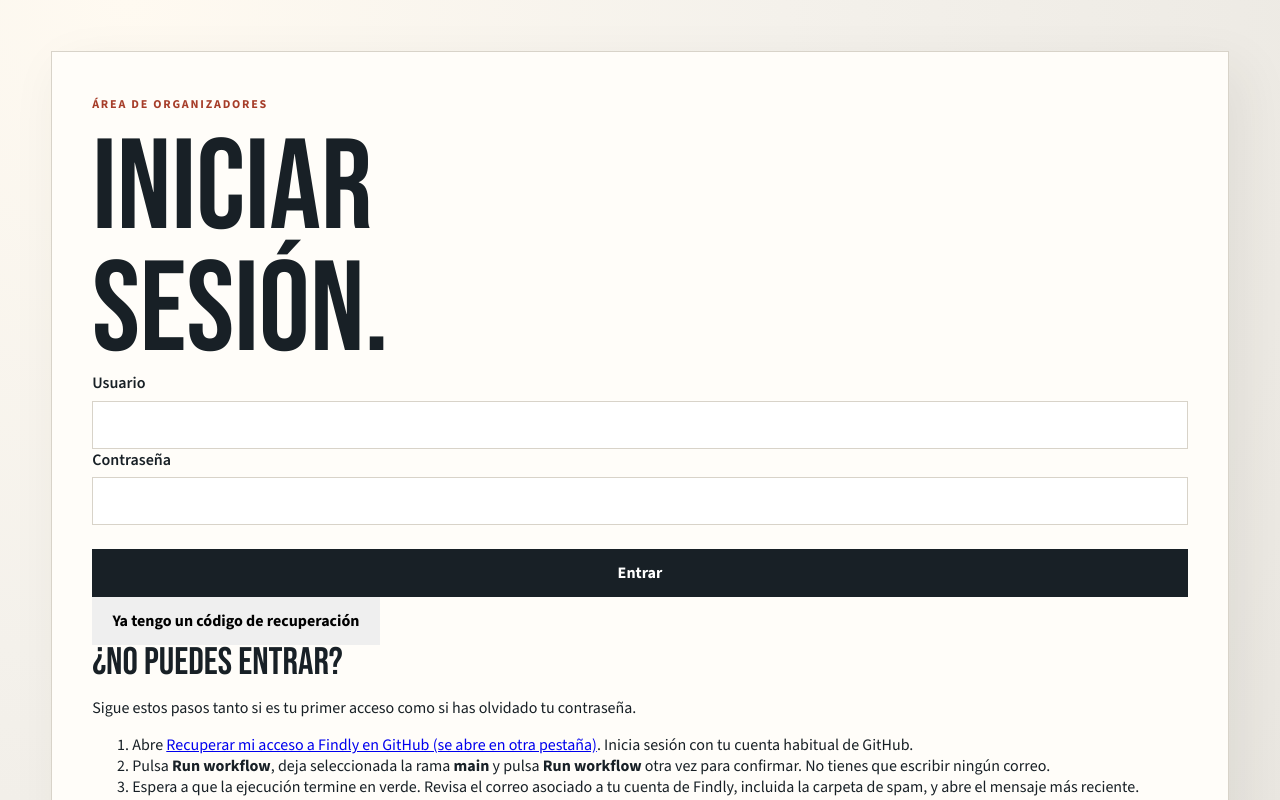
Test: frontend authentication › lets an invited organizer choose a permanent password before accessing events
In the field labelled "Usuario": (640, 425) [92, 401, 1188, 449], type "invited"
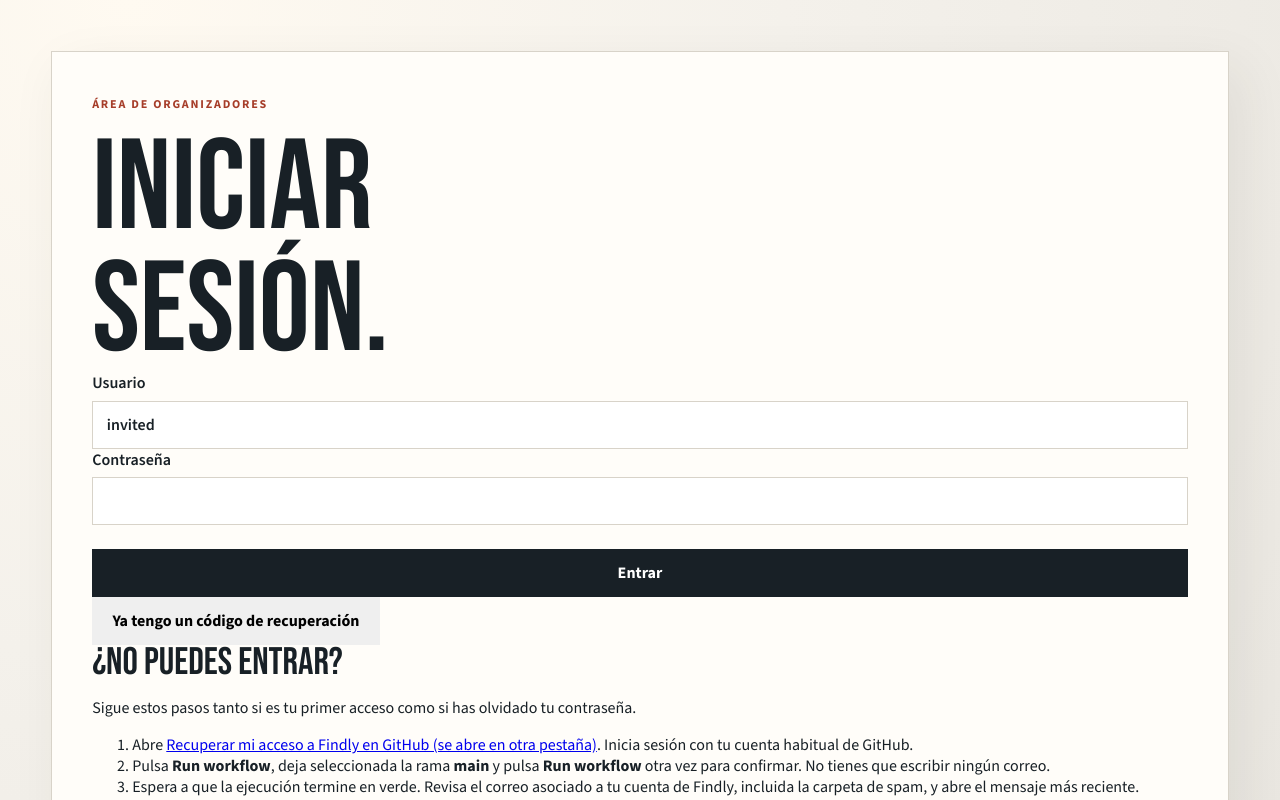
In the password field labelled "Contraseña": (640, 501) [92, 477, 1188, 525], type "temporary"
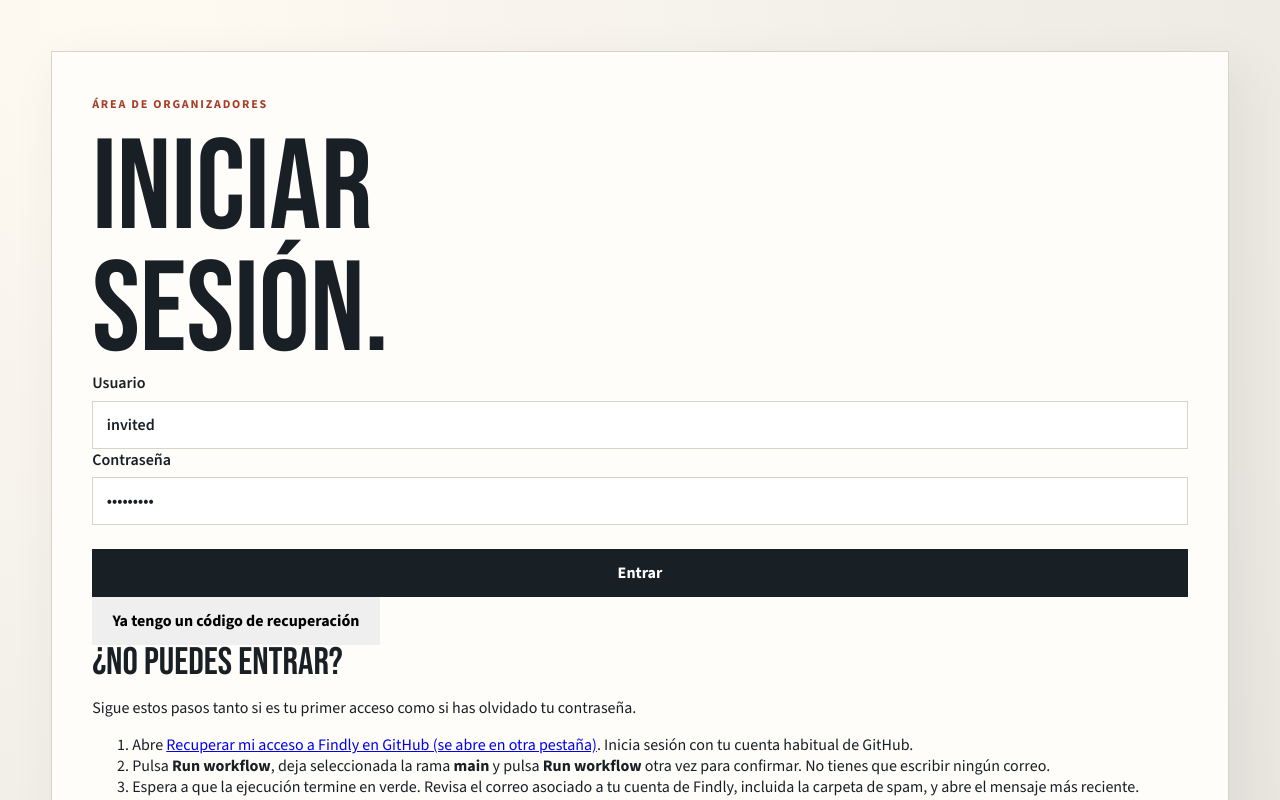
Click the button "Entrar": (640, 573) [92, 549, 1188, 597]
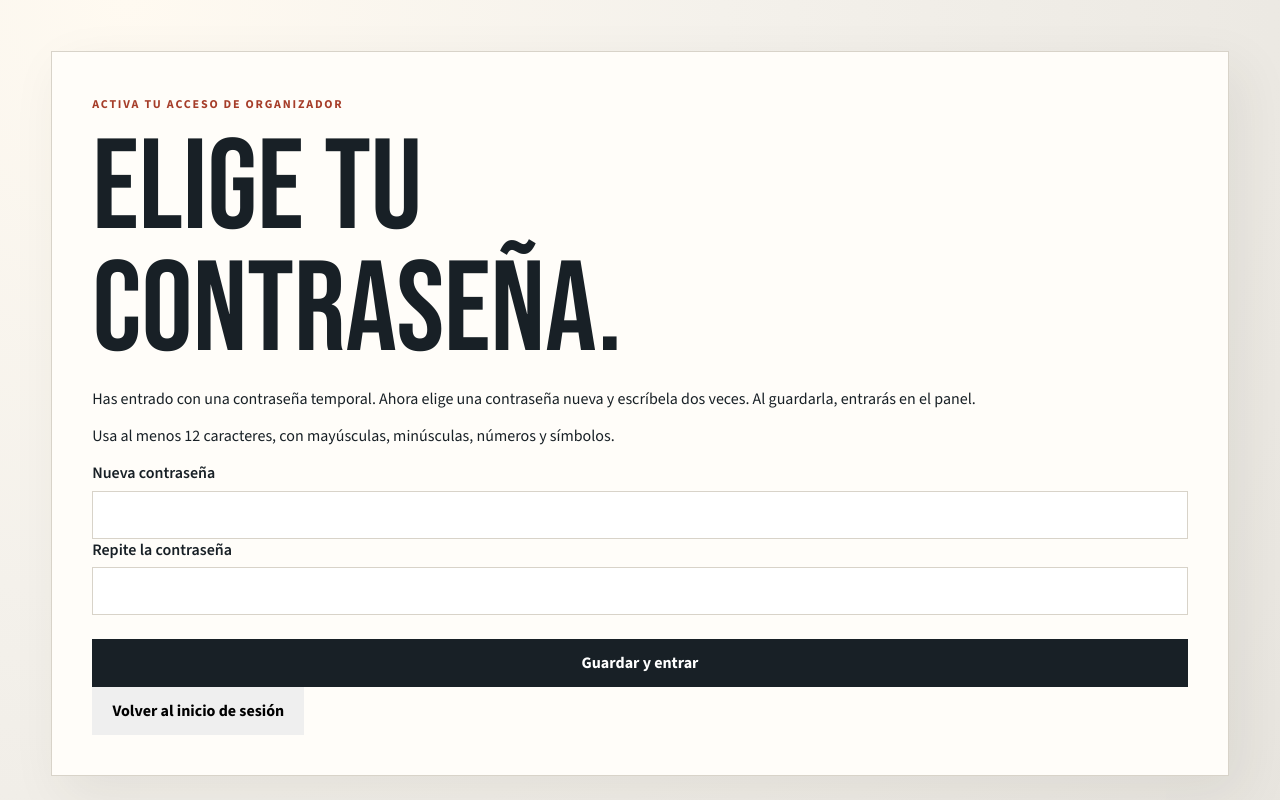
Check: the heading "Elige tu contraseña." is shown, box [92, 129, 451, 372]
In the password field labelled "Nueva contraseña": (640, 515) [92, 491, 1188, 539], type "Permanent1!test"
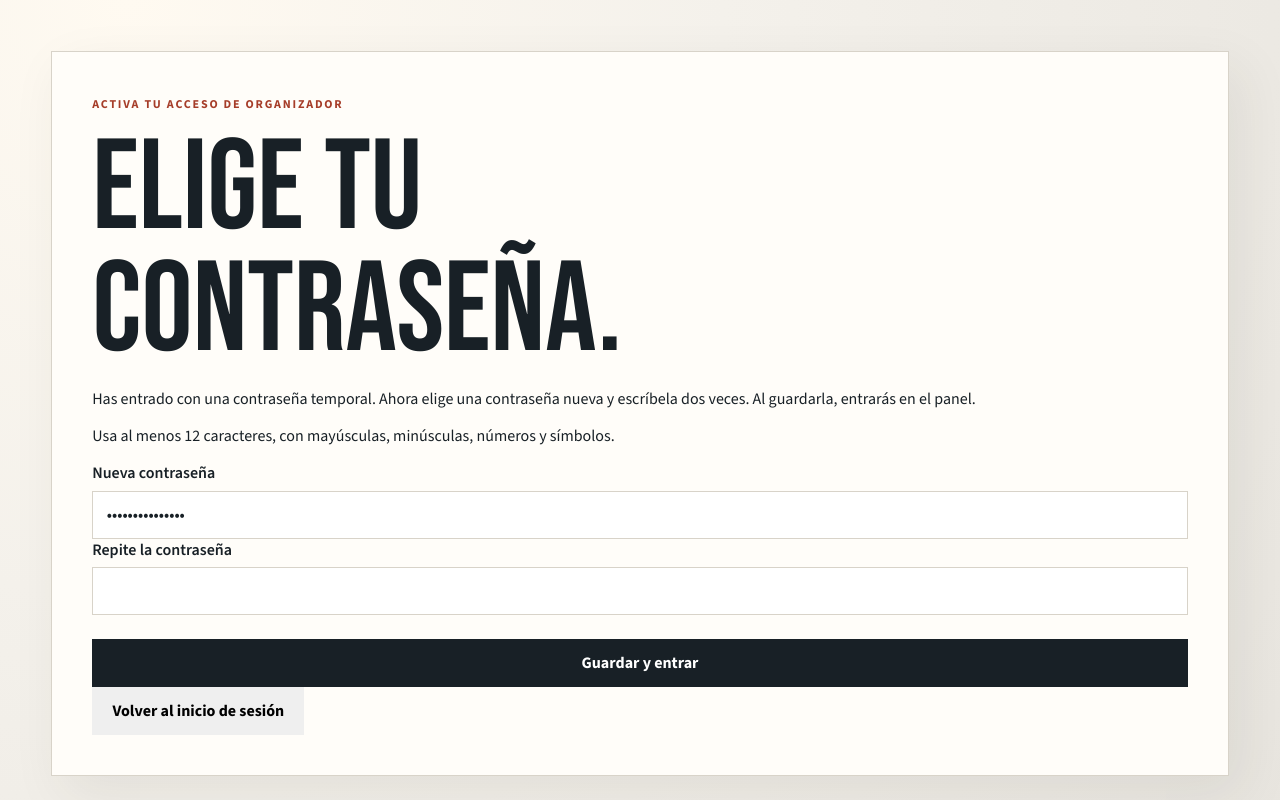
In the password field labelled "Repite la contraseña": (640, 591) [92, 567, 1188, 615], type "Permanent1!test"
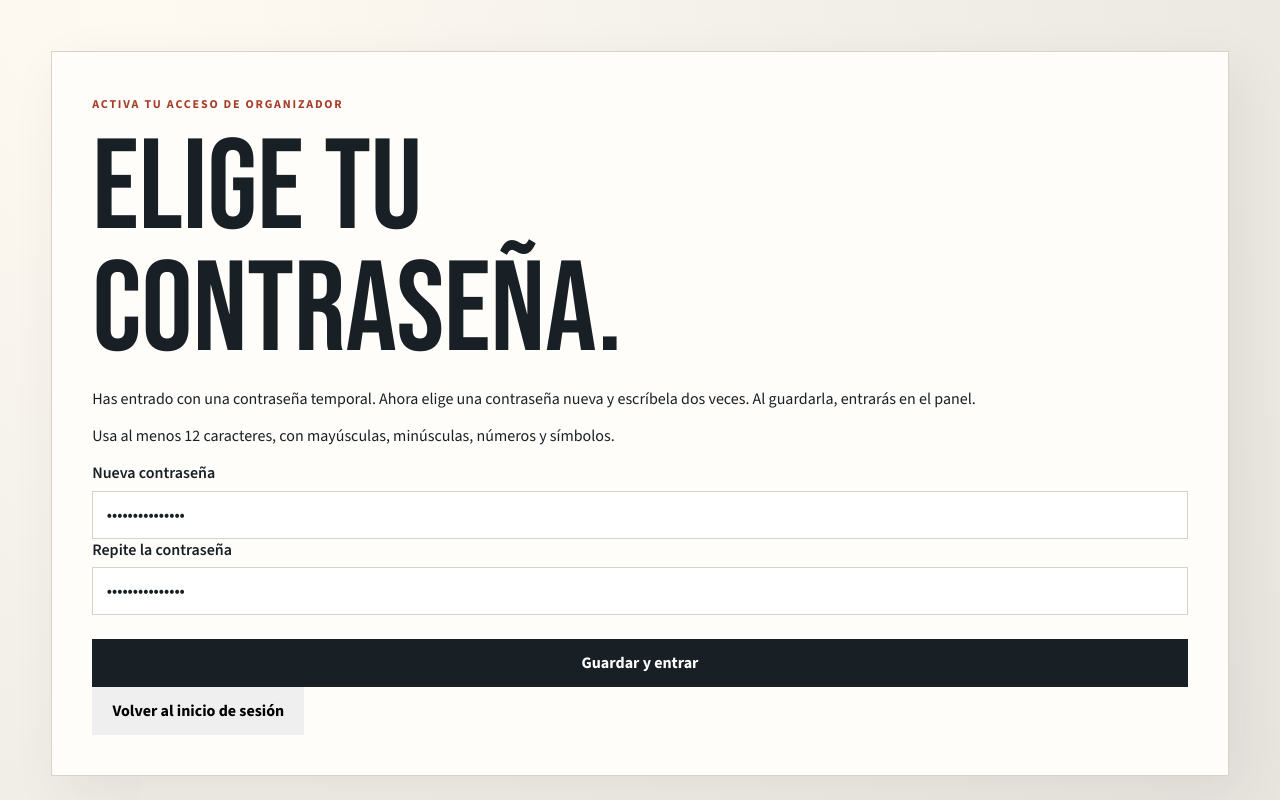
Click the button "Guardar y entrar": (640, 663) [92, 639, 1188, 687]
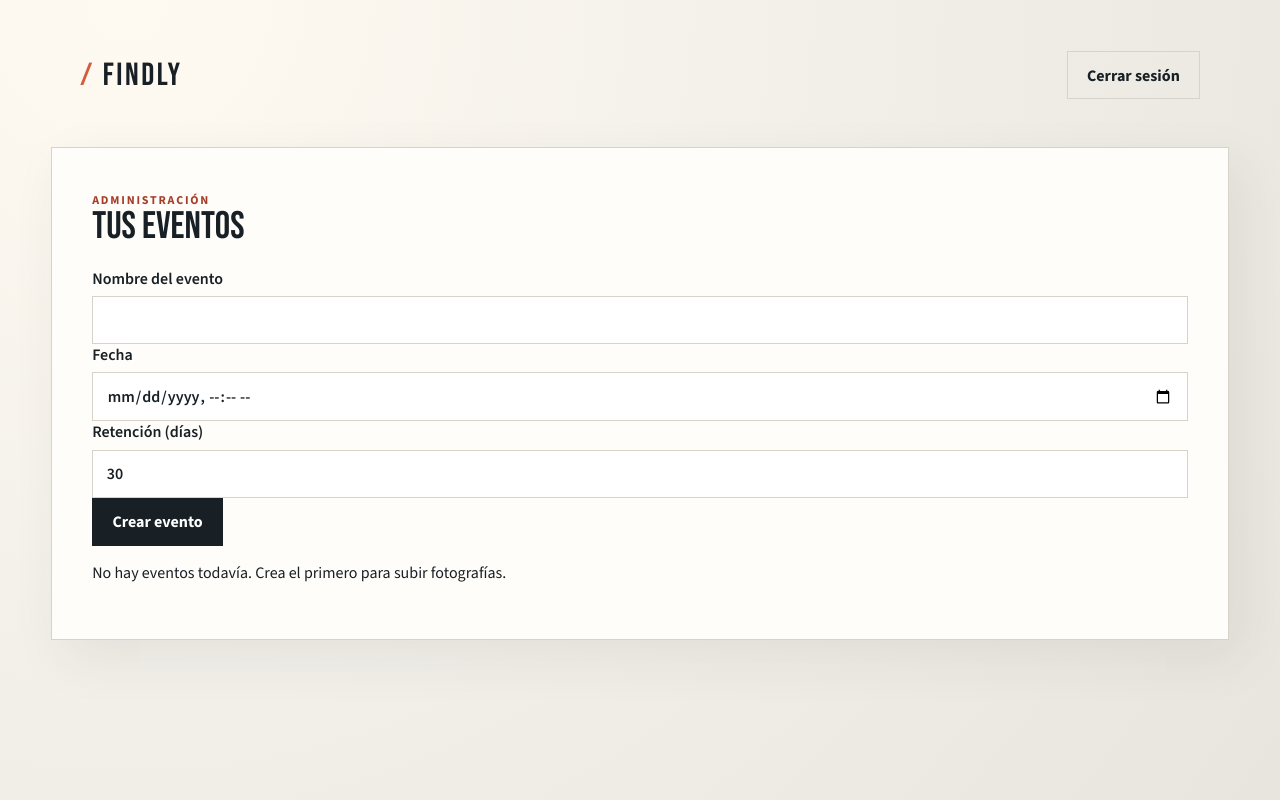
Check: the heading "Tus eventos" is shown, box [92, 209, 244, 246]
